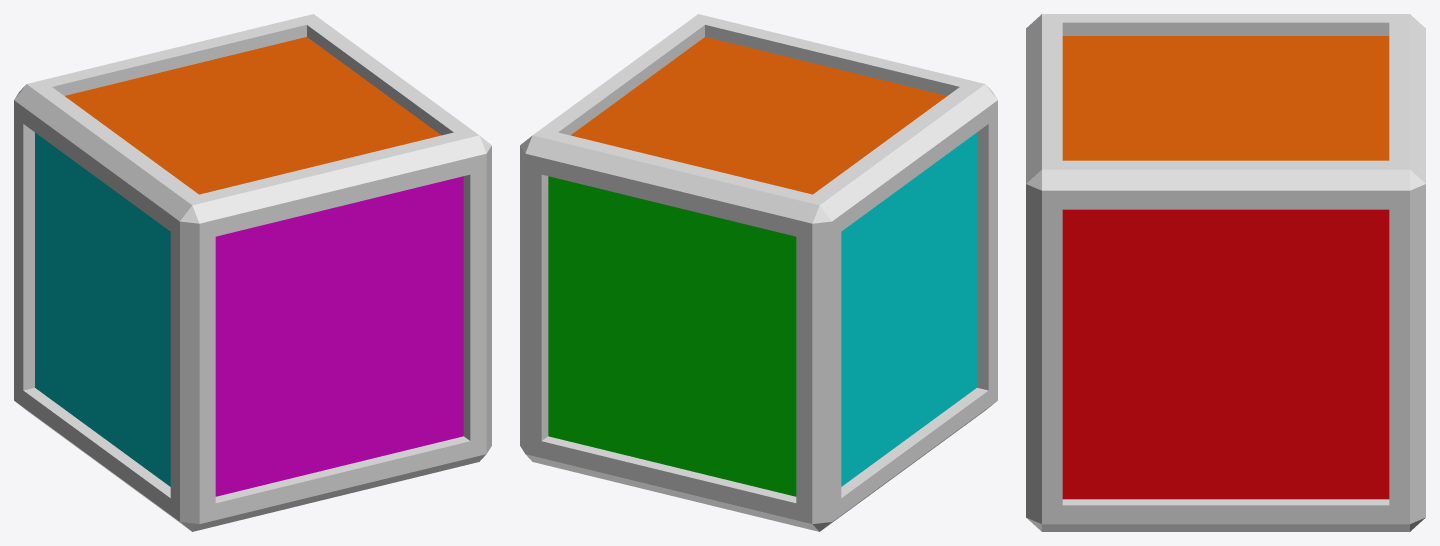
The model's file is NonEuclideanCube.fbx.
3 renders of one model, left to right at view 1: azimuth 30°, elevation 25°; view 2: azimuth 150°, elevation 25°; view 3: azimuth 270°, elevation 25°, orthographic. The views are drawn at different scales.
Parts seen in each view (by area): view 1: Cube; view 2: Cube; view 3: Cube.
Boxes of the visible parts, x1,y1,x2,y2 form: Cube: (14,14,491,531); Cube: (520,14,997,531); Cube: (1026,14,1425,531).
Bounding box in the file's own units: 200 × 200 × 200.
